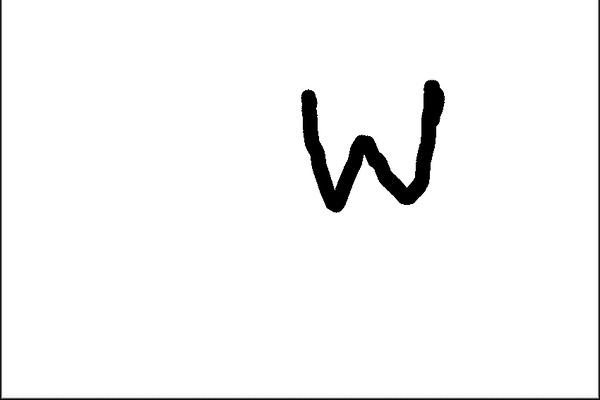w: (280, 60, 464, 237)
